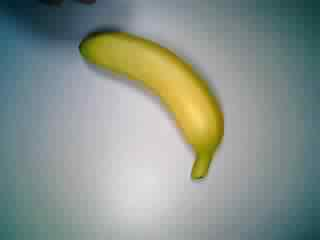banana: (72, 26, 228, 187)
